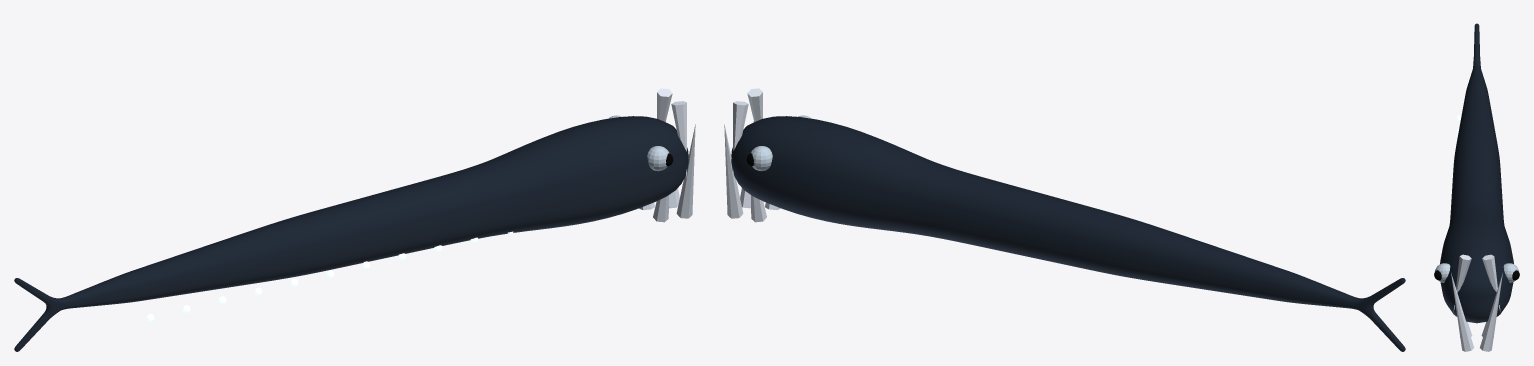
The model's file is peixe_vibora.glb.
The picture shows the model from 3 angles, left to right: view 1: azimuth 30°, elevation 25°; view 2: azimuth 150°, elevation 25°; view 3: azimuth 270°, elevation 25°; orthographic projection. The views are drawn at different scales.
Visible parts, largest first — view 1: corpo; view 2: corpo; view 3: corpo.
Boxes of the visible parts, left/top/right/bottom form: corpo: left=14, top=88, right=695, bottom=351; corpo: left=724, top=88, right=1405, bottom=351; corpo: left=1434, top=23, right=1519, bottom=351.
Bounding box in the file's own units: 4.85 × 1.9 × 0.688.
